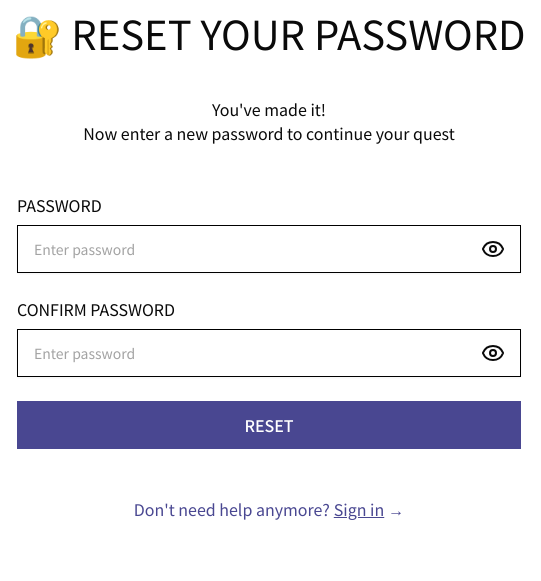
Test: ResetPassword Page › Form Interactions › clears error when resubmitting after error
The image size is (541, 581).
Type "password123" into the password field labelled "Password" at (269, 249), box [17,225,521,273]
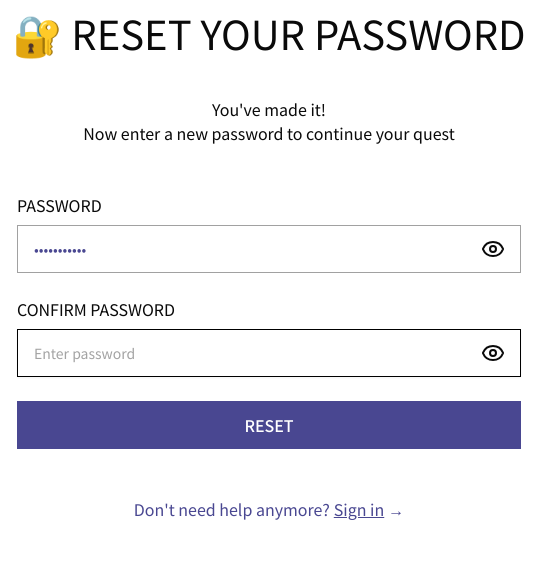
Type "password123" into the password field labelled "Confirm Password" at (269, 353), box [17,329,521,377]
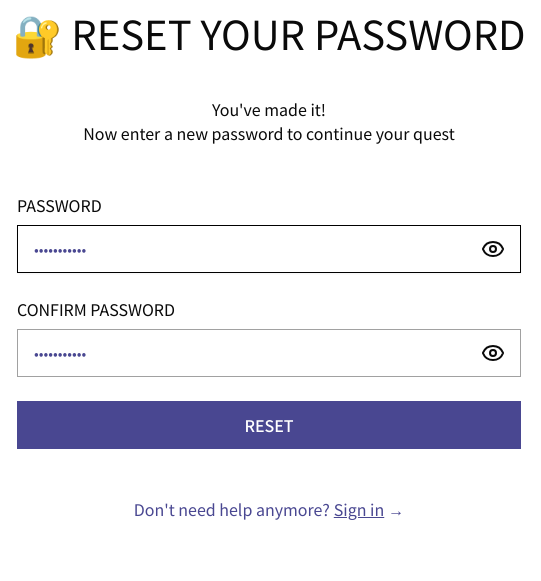
Click the button "RESET" at (269, 425), box [17,401,521,449]
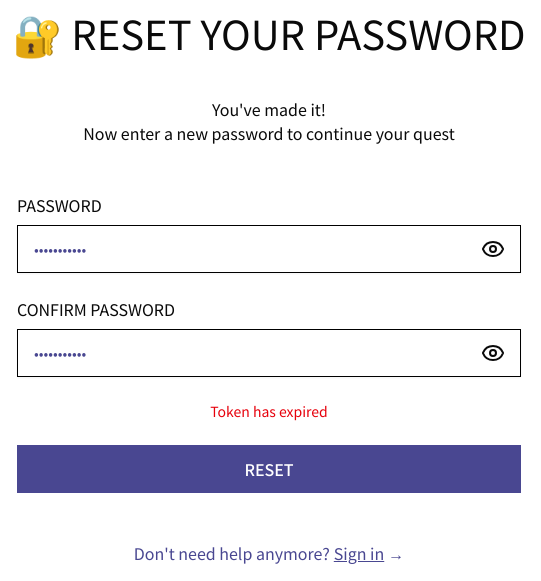
Check: the text "Token has expired" is shown, box [210,401,328,421]
Click the button "RESET" at (269, 469), box [17,445,521,493]
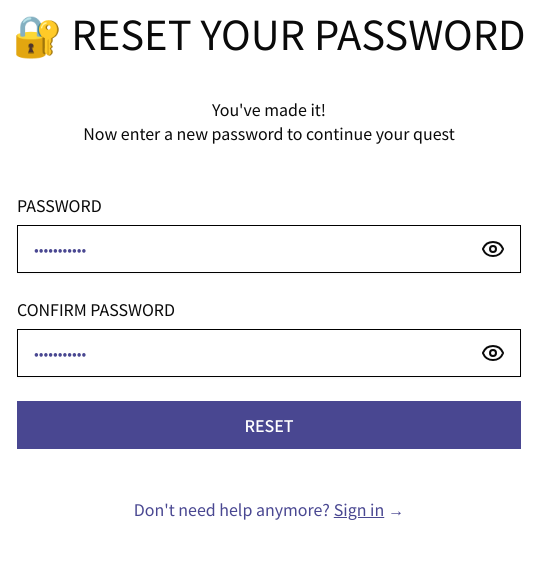
Check: the text "Token has expired" is gone
